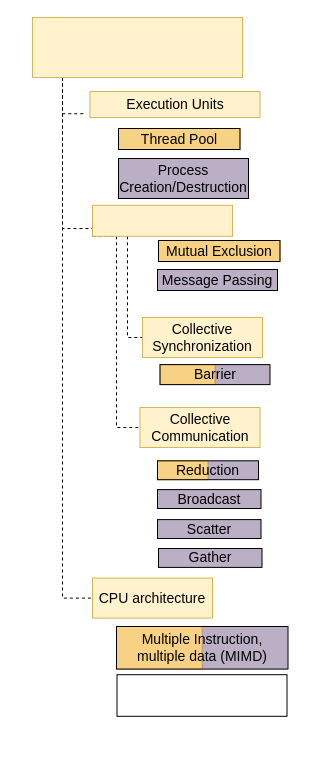
This 324x775 diagram has some shape labels left out. The centre of each missing label's shape, as x and y in pixels:
Concurrent hardware Patterns: (137,47)
Coordination Patterns: (162,220)
Single Instruction, multiple data (SIMD): (201,695)
